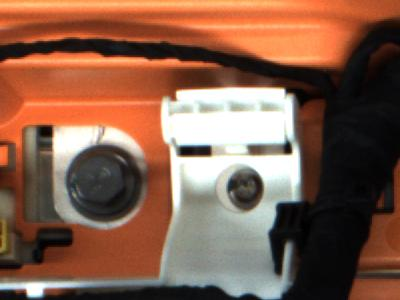nut_b: (61, 145, 154, 226)
